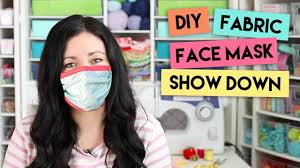masked: (48, 14, 121, 112)
